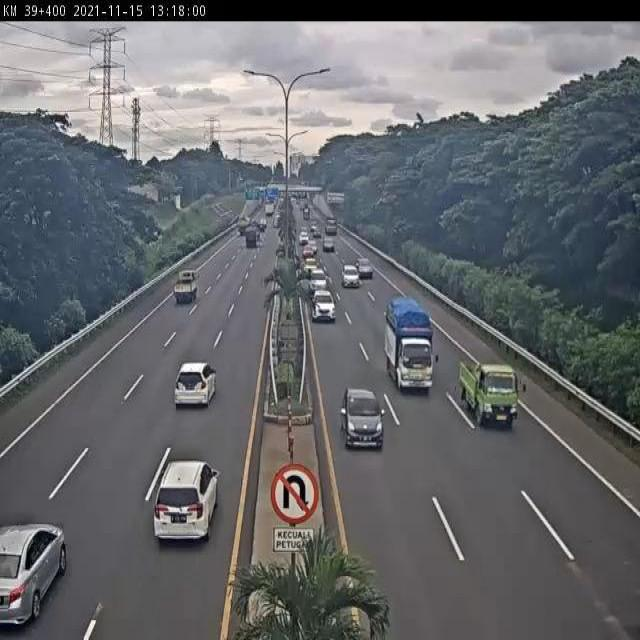car: (340, 385, 384, 452), (174, 359, 220, 409), (310, 288, 337, 321)
truck-m-: (385, 297, 435, 392)
truck-s-: (457, 355, 519, 429), (173, 268, 199, 304)
